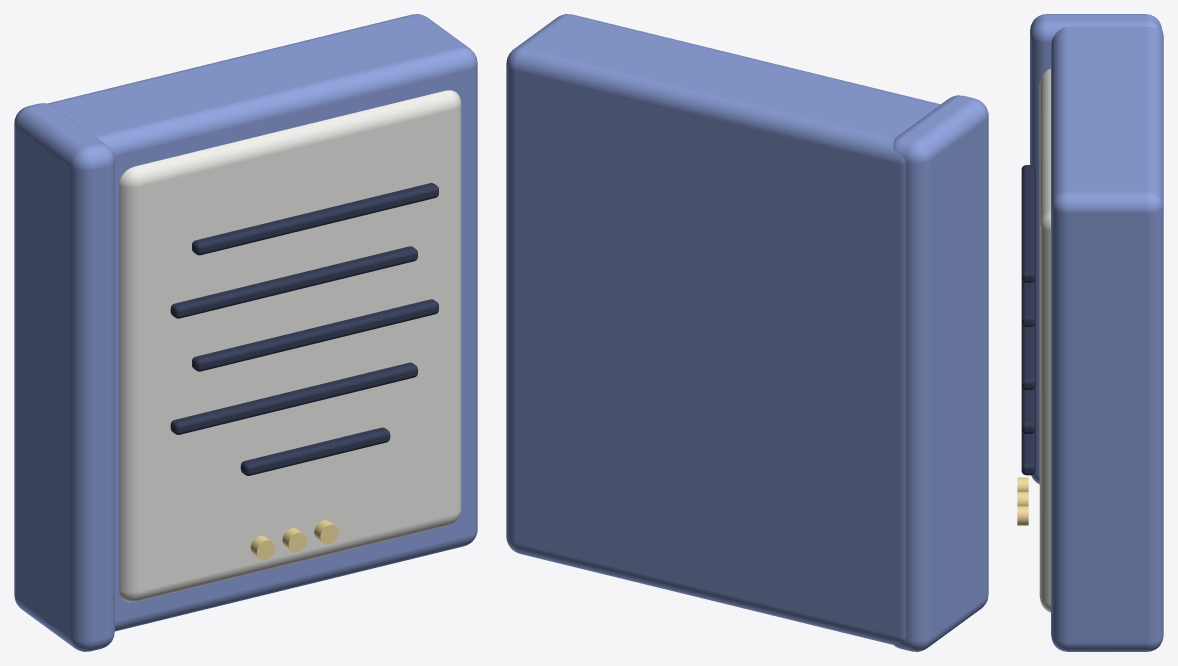
Rendered from data-text.glb.
The picture shows the model from 3 angles, left to right: view 1: azimuth 30°, elevation 25°; view 2: azimuth 150°, elevation 25°; view 3: azimuth 270°, elevation 25°; orthographic projection. The views are drawn at different scales.
Visible parts, largest first — view 1: component (×8); view 2: component (×2); view 3: component (×9).
Part boxes in pixels (bbox=[...]): component (×8): bbox=[14, 14, 477, 651]; component (×2): bbox=[506, 14, 988, 651]; component (×9): bbox=[1017, 14, 1163, 651].
Size of the model in its own units: 0.0315 by 0.0364 by 0.0104.
